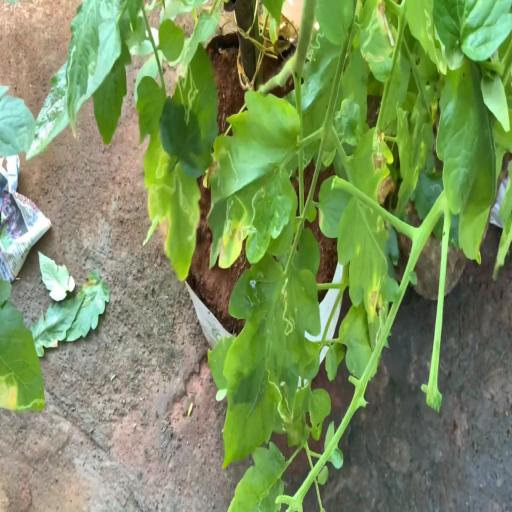Leaf_Miner: (222, 254, 321, 470), (206, 89, 300, 267), (136, 74, 201, 282), (160, 43, 219, 179), (0, 279, 47, 414), (405, 0, 441, 73), (360, 0, 398, 62), (369, 302, 388, 346), (304, 30, 326, 64)
